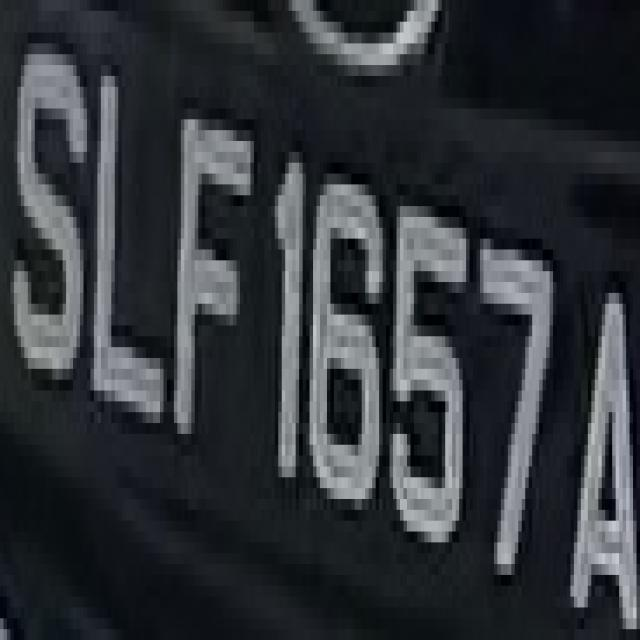1: (268, 108, 306, 520)
5: (390, 130, 473, 597)
6: (303, 163, 386, 542)
7: (469, 173, 556, 608)
A: (3, 4, 4, 11)
F: (164, 76, 258, 499)
L: (87, 11, 163, 466)
S: (10, 22, 90, 401)
